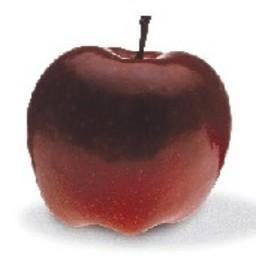apple: (26, 46, 231, 233)
